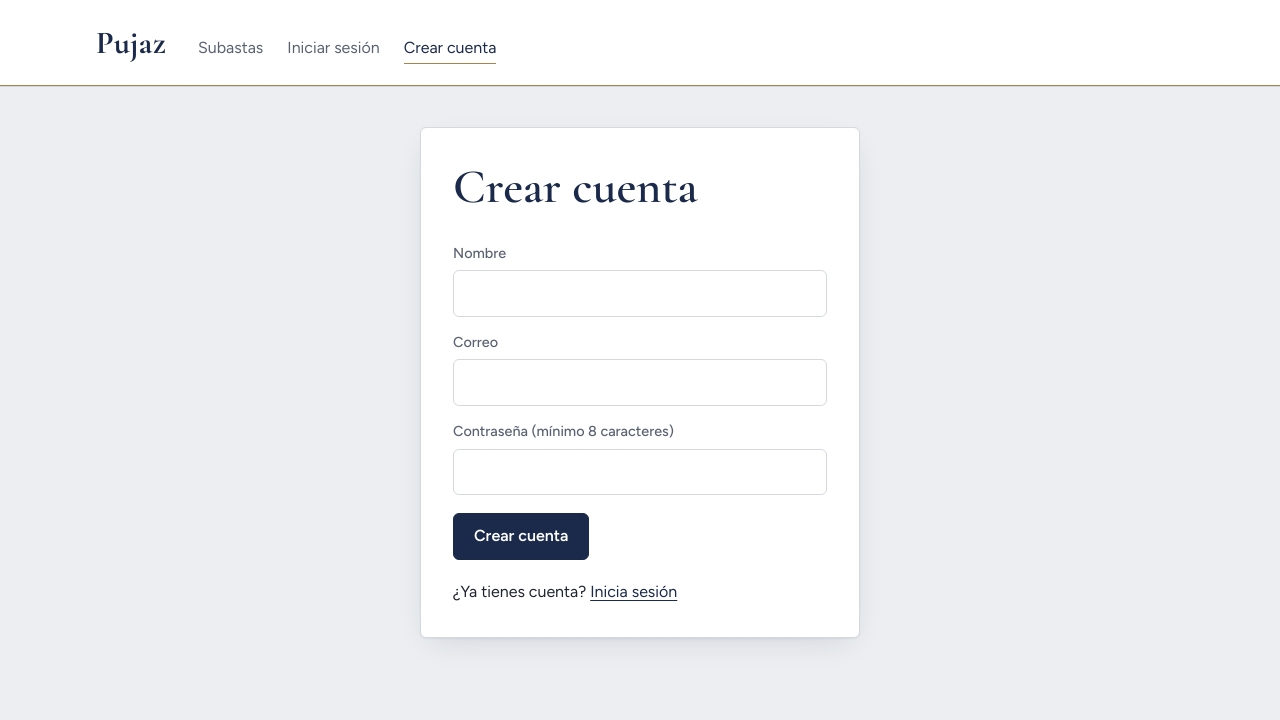
Test: RegistroPage › avisa si el correo ya está registrado
Step 1. Type "Ana Gómez" into the field labelled "Nombre" → (640, 294), box [453, 270, 827, 317]
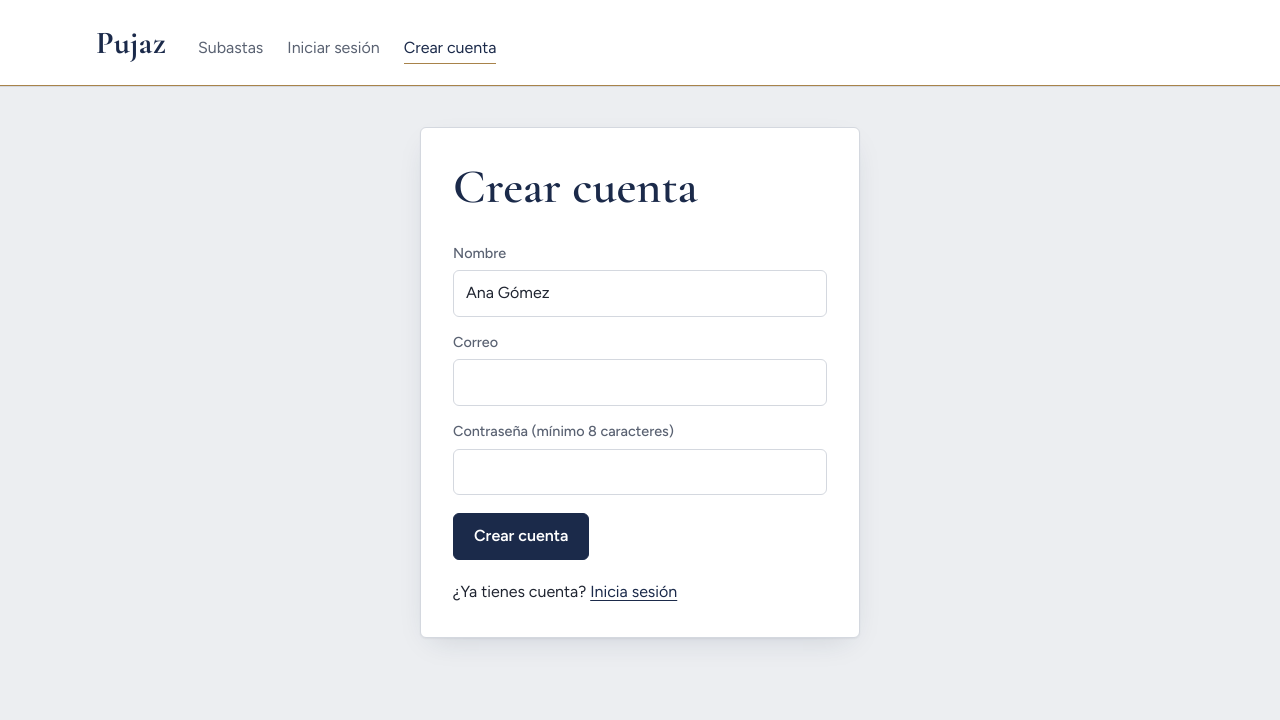
Step 2. Type "ana@correo.com" into the field labelled "Correo" → (640, 383), box [453, 359, 827, 406]
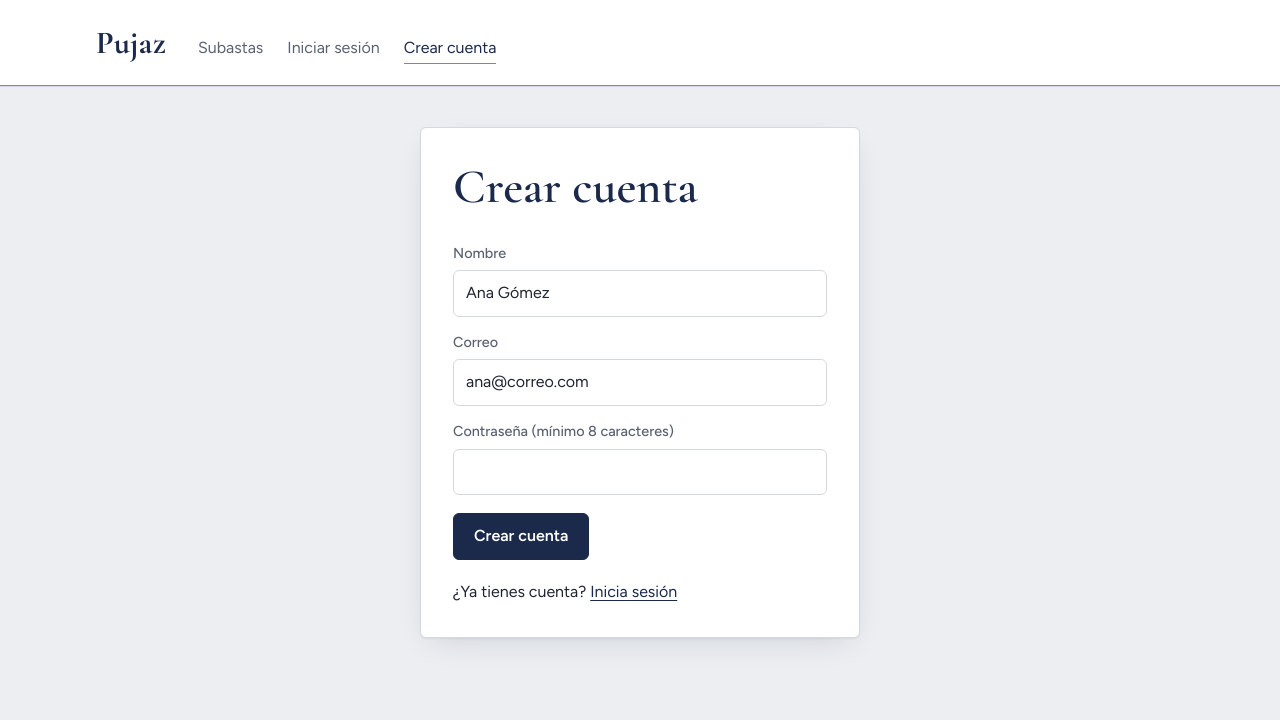
Step 3. Type "secreto123" into the password field labelled "Contraseña (mínimo 8 caracteres)" → (640, 472), box [453, 448, 827, 495]
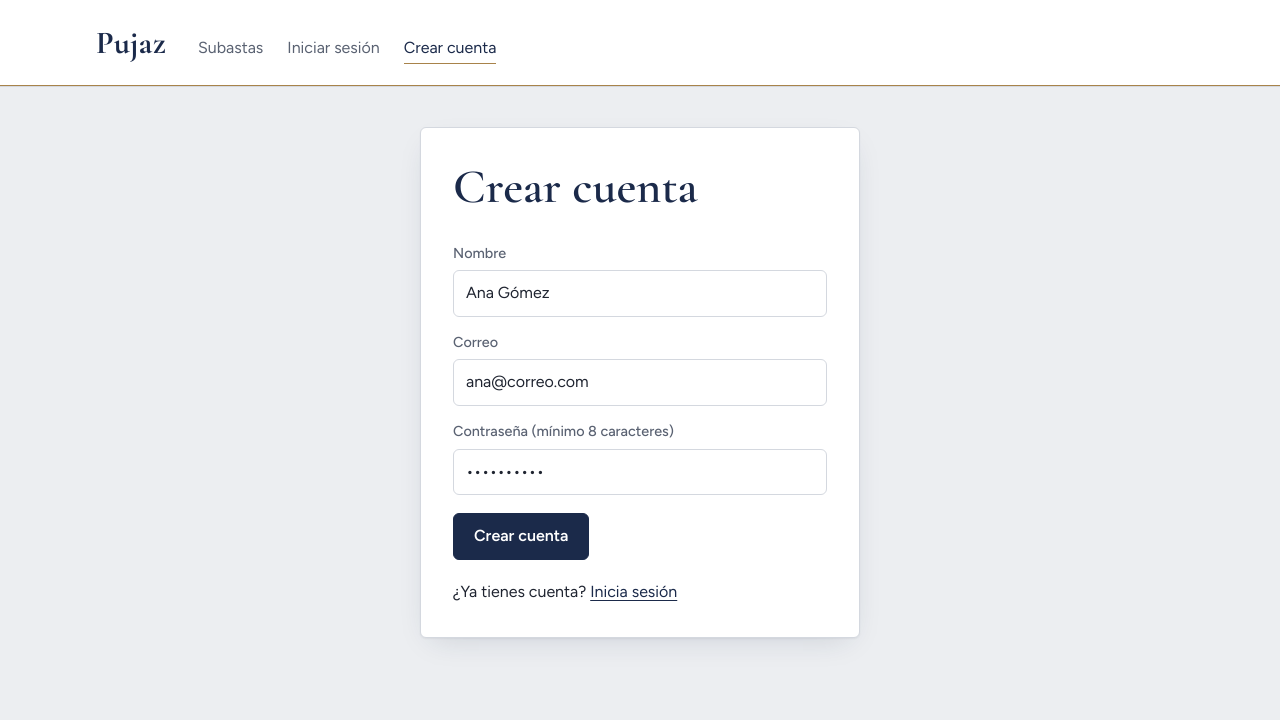
Step 4. Click the button "Crear cuenta" → (521, 537), box [453, 513, 589, 560]
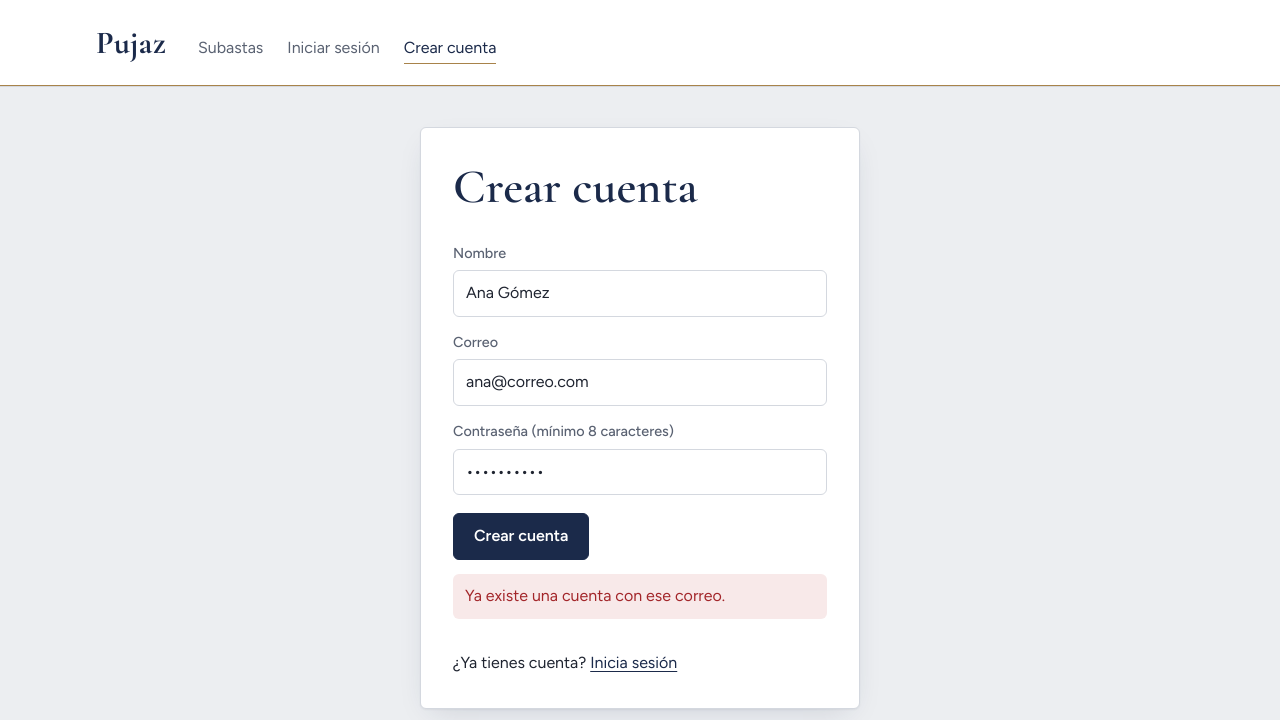
expect the message reads "Ya existe una cuenta con ese correo.": met, box [465, 586, 725, 605]
